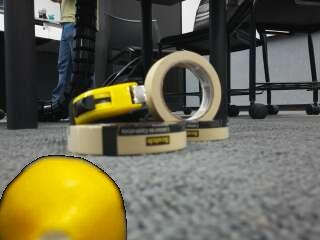lemon: (0, 157, 126, 240)
